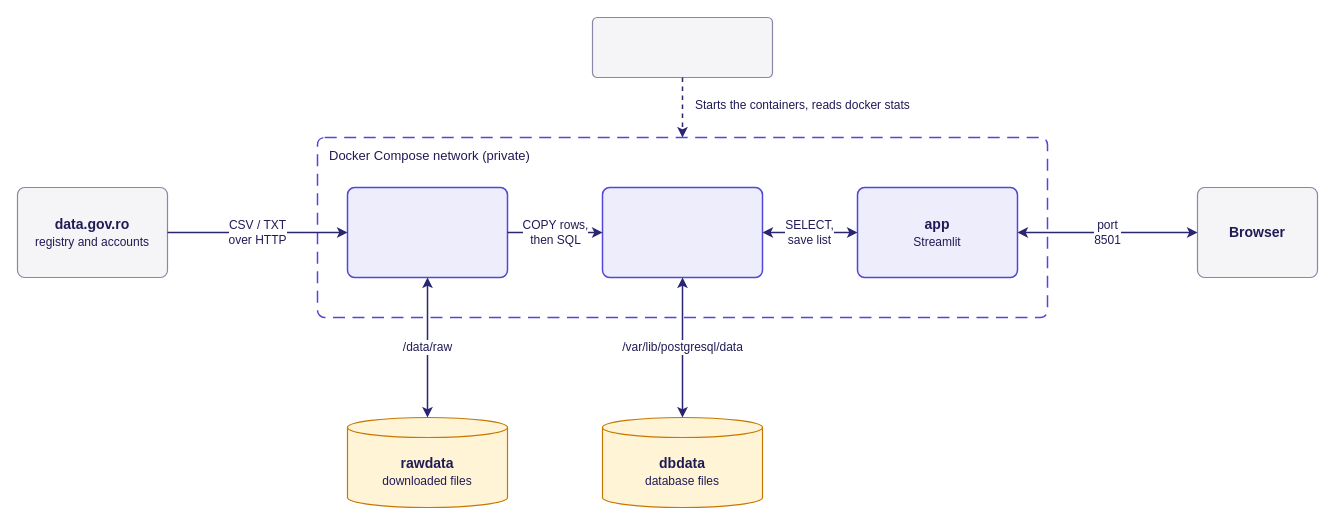
The diagram is 1336 pixels wide and 526 high, and some of its shapes have lost their labels. The centre of each missing label's shape, as x and y in pixels:
benchmark.py on the laptop, only when asked: point 682,47
db PostgreSQL 16: point 682,232
loader Python, runs once, then exits: point 427,232
